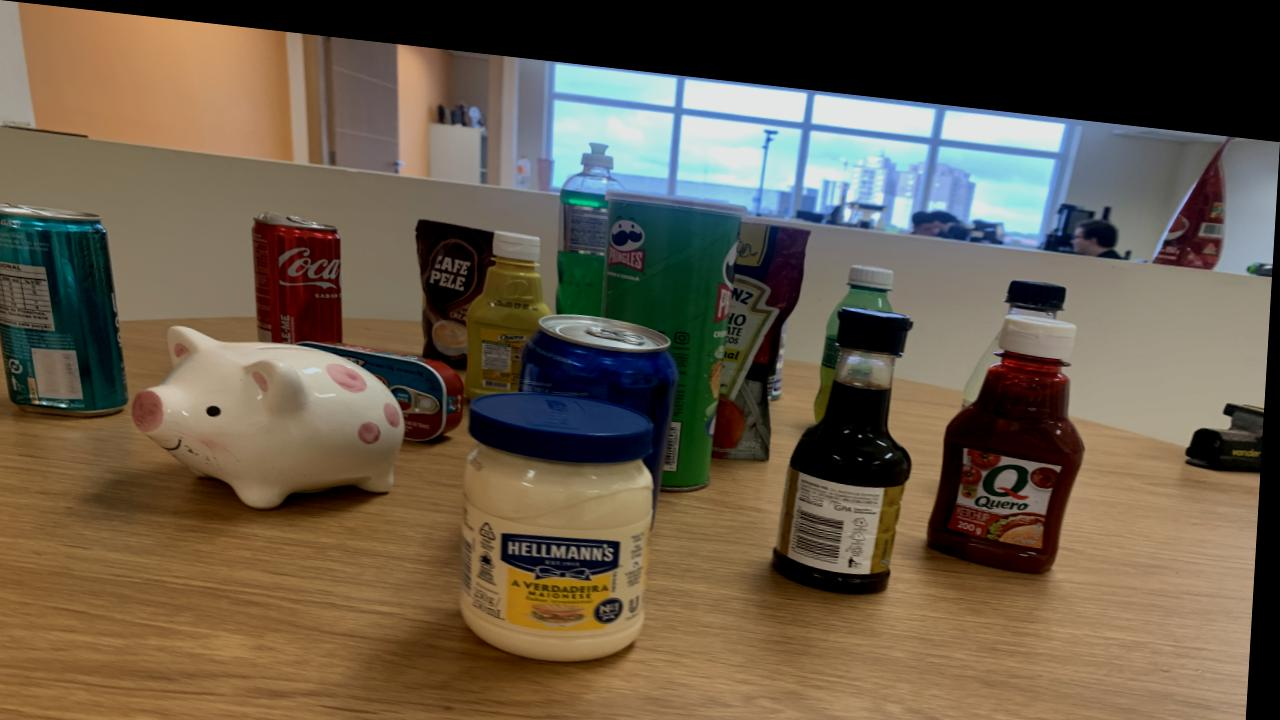Coffee-Pantry_Items: (418, 209, 497, 359)
Coke-Drinks: (255, 206, 347, 337)
Detergent-Cleanup_Items: (559, 129, 625, 301)
English_Sauce-Pantry_Items: (778, 287, 916, 573)
Guarana-Drinks: (817, 244, 897, 401)
Ketchup-Pantry_Items: (932, 291, 1088, 549)
Mayonnaise-Pantry_Items: (467, 382, 659, 648)
Mustard-Pantry_Items: (469, 219, 554, 388)
Pig_Safe-Miscellaneous: (136, 321, 410, 502)
Pringles-Snacks: (604, 176, 747, 475)
Soda-Drinks: (966, 310, 1004, 384), (1009, 255, 1067, 294)
Tea-Drinks: (0, 203, 133, 415)
Tomato_Sauce-Pantry_Items: (718, 203, 811, 442), (1154, 108, 1235, 242)
Tonic-Drinks: (525, 300, 682, 472)
Tuna_Can-Pantry_Items: (303, 334, 469, 431)
